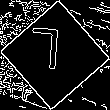L_S: (38, 28, 72, 82)
